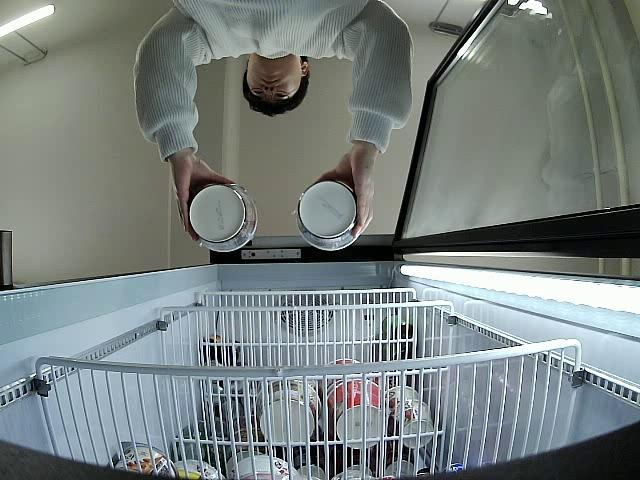00_hand: (170, 152, 233, 246), (320, 142, 376, 241)
07_buldak_L: (184, 182, 257, 252), (297, 181, 366, 254)
